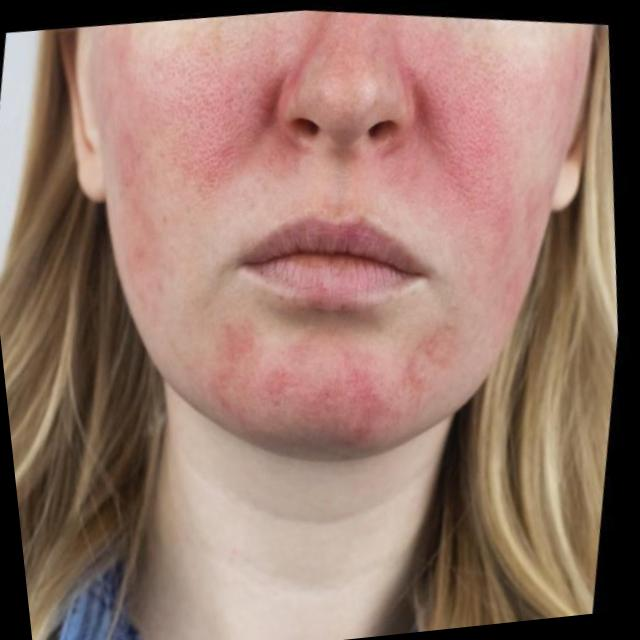redness: (377, 15, 532, 275), (168, 13, 340, 194), (214, 328, 465, 452), (95, 36, 163, 306)
